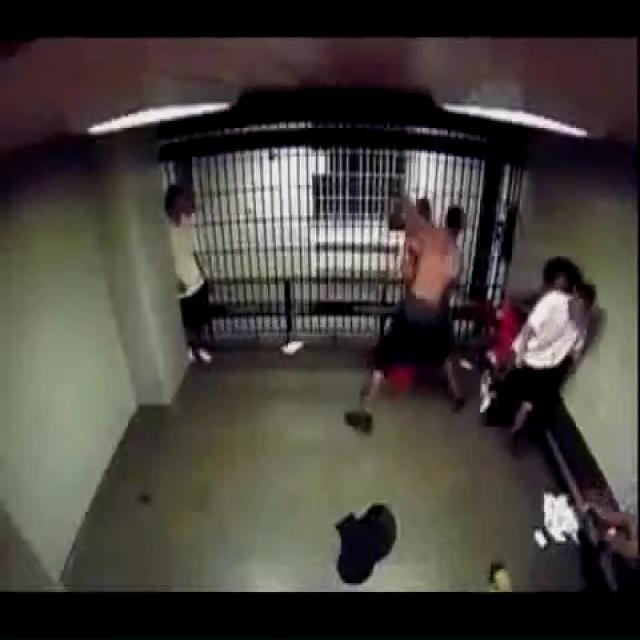fight: (342, 189, 469, 436)
